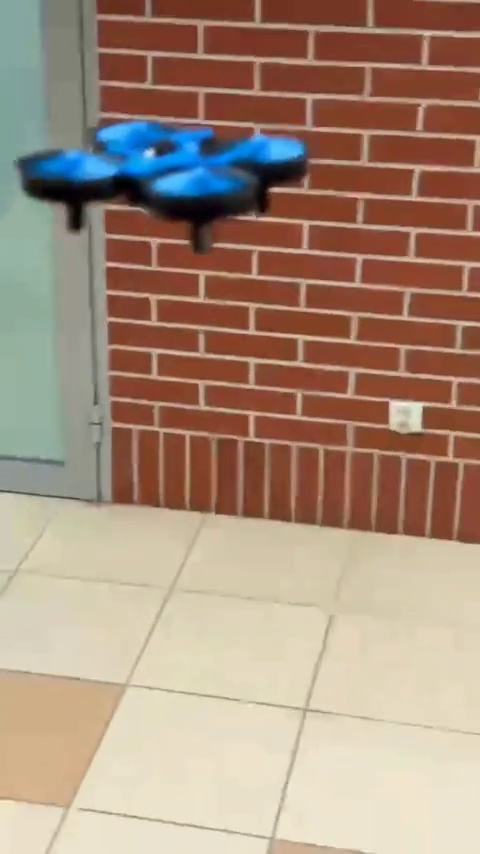drone: (15, 120, 304, 244)
